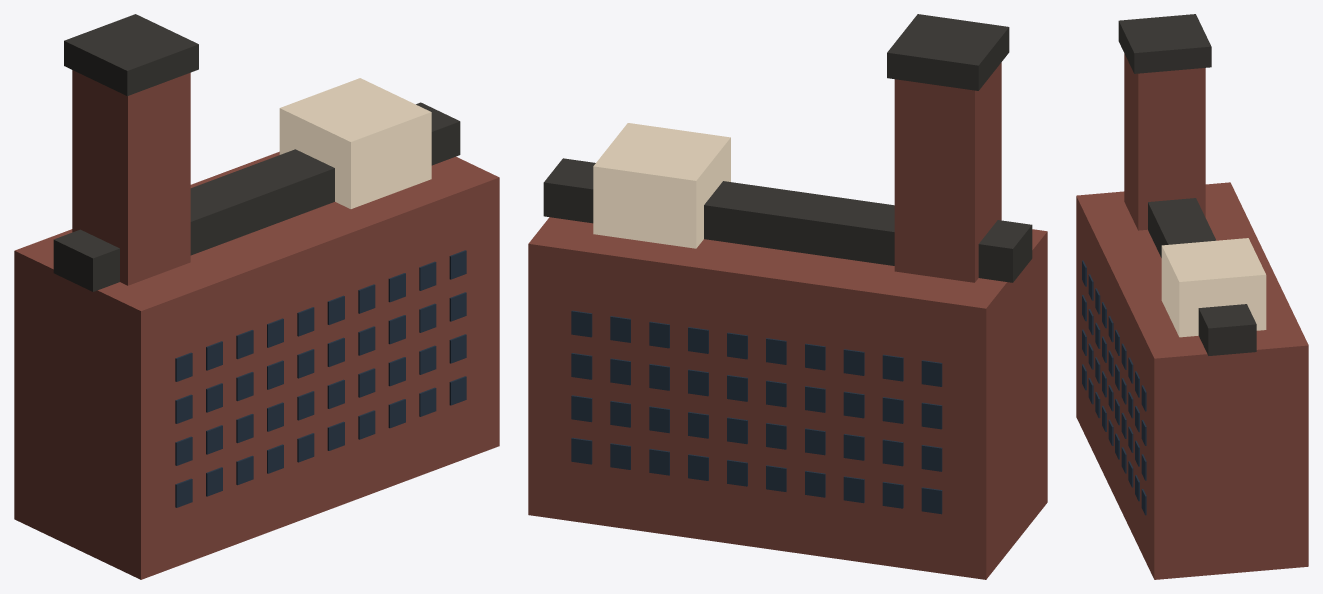
The model's file is tatemodern.glb.
3 renders of one model, left to right at view 1: azimuth 30°, elevation 25°; view 2: azimuth 150°, elevation 25°; view 3: azimuth 270°, elevation 25°, orthographic. The views are drawn at different scales.
Parts seen in each view (by area): view 1: tatemodern; view 2: tatemodern; view 3: tatemodern.
Boxes of the visible parts, box(x1,y1,x2,y2) form: tatemodern: box(14, 14, 499, 579); tatemodern: box(528, 14, 1047, 579); tatemodern: box(1076, 14, 1308, 579).
Bounding box in the file's own units: 0.7614 × 0.8076 × 0.4245.
